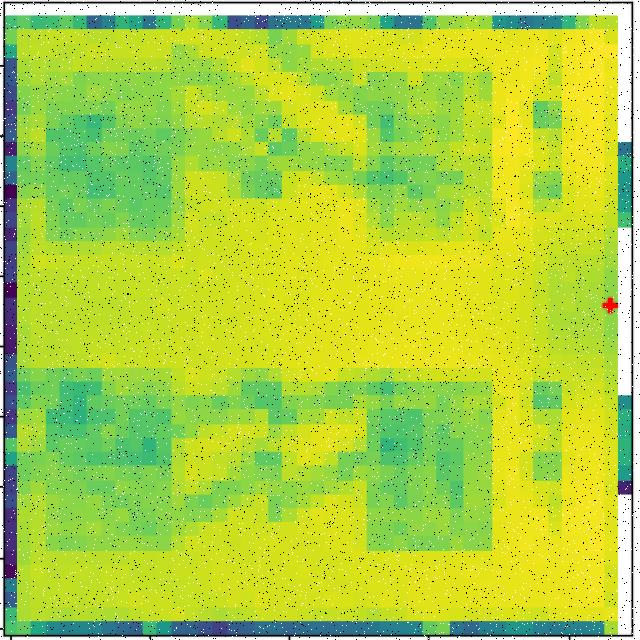Concrete: (64, 72, 183, 245)
Glass: (45, 368, 179, 550)
Metal: (364, 73, 496, 237)
Wood: (368, 370, 492, 548)
